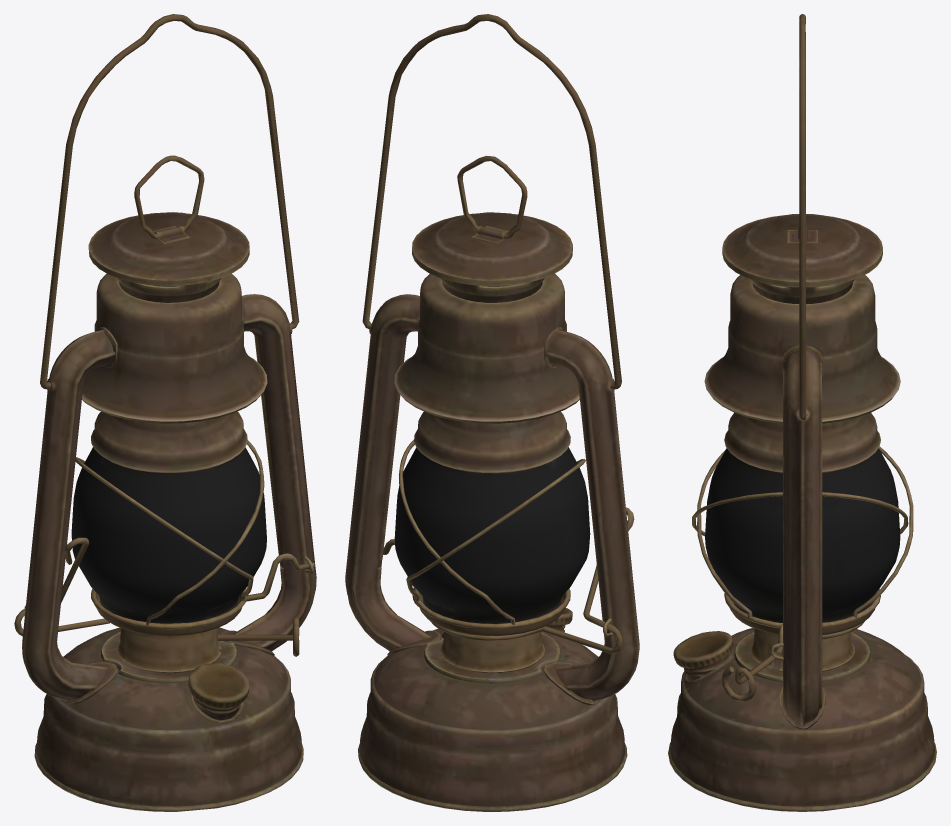
File: Lantern_01.glb
3 renders of one model, left to right at view 1: azimuth 30°, elevation 25°; view 2: azimuth 150°, elevation 25°; view 3: azimuth 270°, elevation 25°, orthographic.
Parts seen in each view (by area): view 1: Lantern_01, Lantern_01_glass; view 2: Lantern_01, Lantern_01_glass; view 3: Lantern_01, Lantern_01_glass.
Part boxes in pixels (x1,y1,x2,y2): Lantern_01: (14,14,316,811); Lantern_01_glass: (71,447,266,623); Lantern_01: (345,14,639,811); Lantern_01_glass: (394,447,590,623); Lantern_01: (668,14,936,811); Lantern_01_glass: (705,448,900,622).
Size of the model in its own units: 0.1221 by 0.2942 by 0.0971.
Materials: 2 (2 with a texture image).
